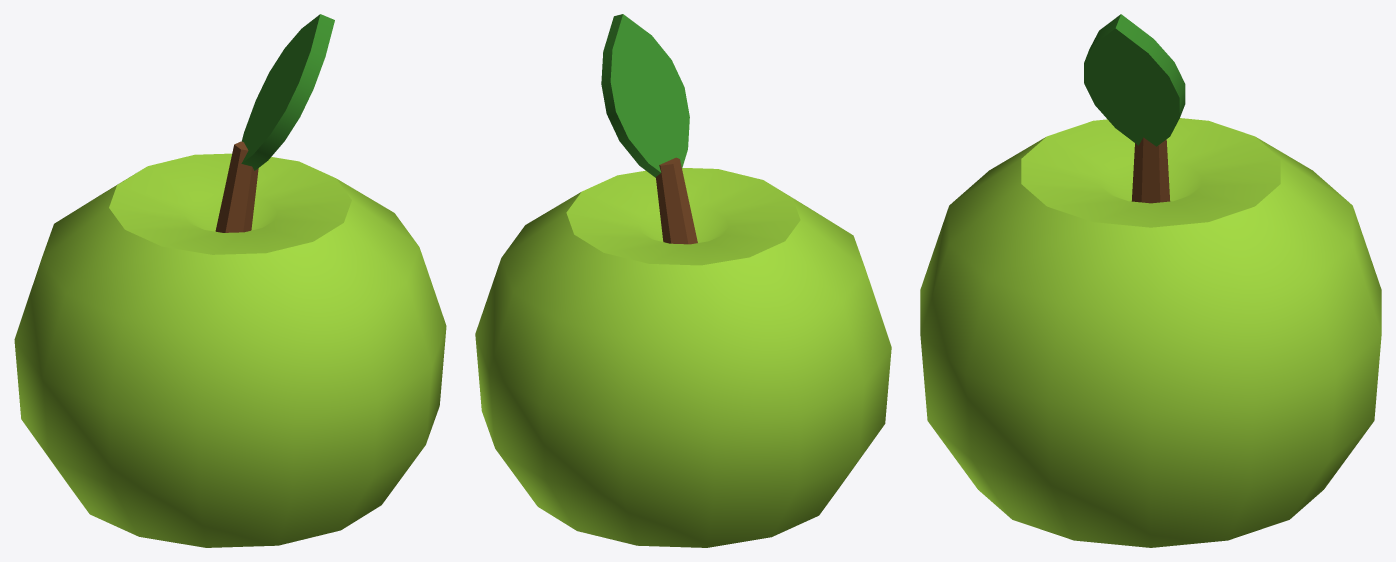
The model's file is GreenApple.fbx.
The picture shows the model from 3 angles, left to right: view 1: azimuth 30°, elevation 25°; view 2: azimuth 150°, elevation 25°; view 3: azimuth 270°, elevation 25°; orthographic projection. The views are drawn at different scales.
Visible parts, largest first — view 1: GreenApple; view 2: GreenApple; view 3: GreenApple.
Part boxes in pixels (bbox=[...]): GreenApple: bbox=[14, 14, 446, 547]; GreenApple: bbox=[475, 14, 891, 547]; GreenApple: bbox=[920, 14, 1381, 547].
Bounding box in the file's own units: 1.28 × 1.56 × 1.25.
1 material, 1 textured.
